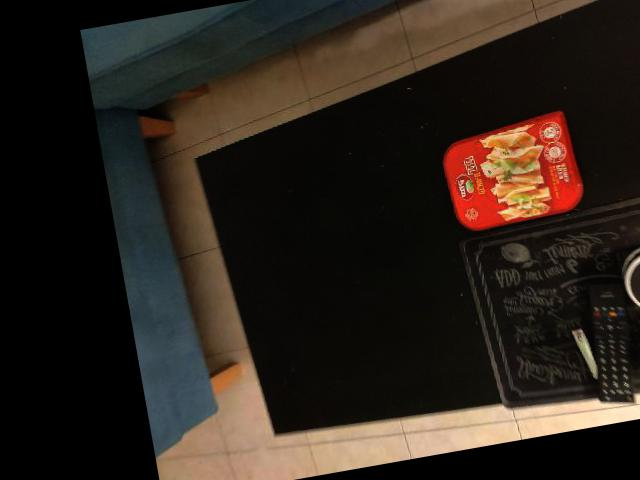cheese: (440, 104, 587, 237)
